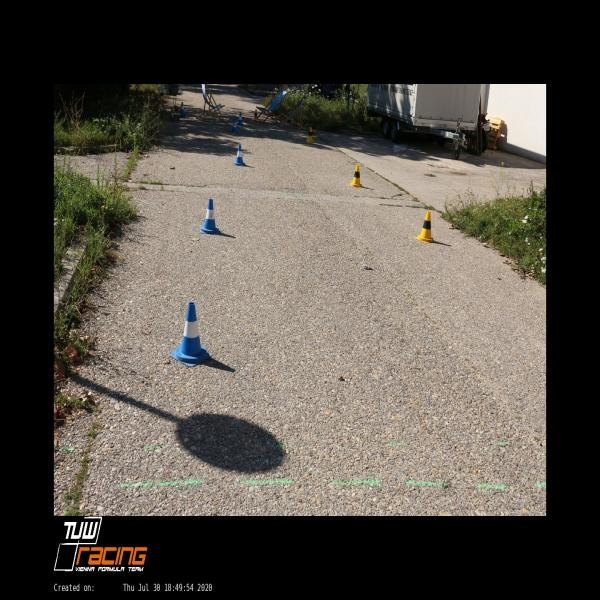blue_cone: (170, 301, 211, 366), (200, 199, 219, 235), (233, 145, 245, 166), (230, 118, 238, 134), (178, 102, 186, 117), (237, 112, 243, 127)
yellow_cone: (416, 211, 435, 244), (350, 164, 362, 188), (306, 128, 314, 144), (252, 109, 259, 121)
